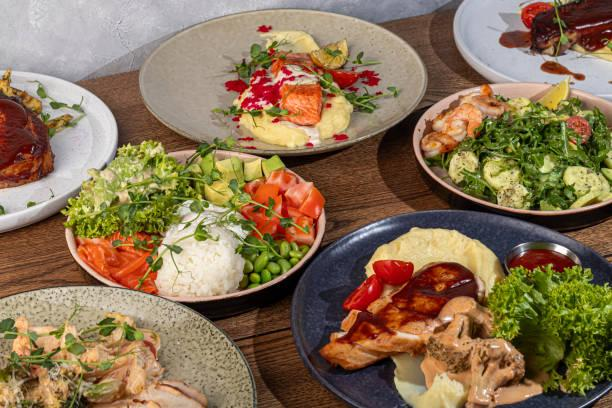Braised Crucian Carp: (289, 210, 611, 407), (143, 7, 422, 158), (66, 147, 327, 298), (412, 81, 607, 218)
